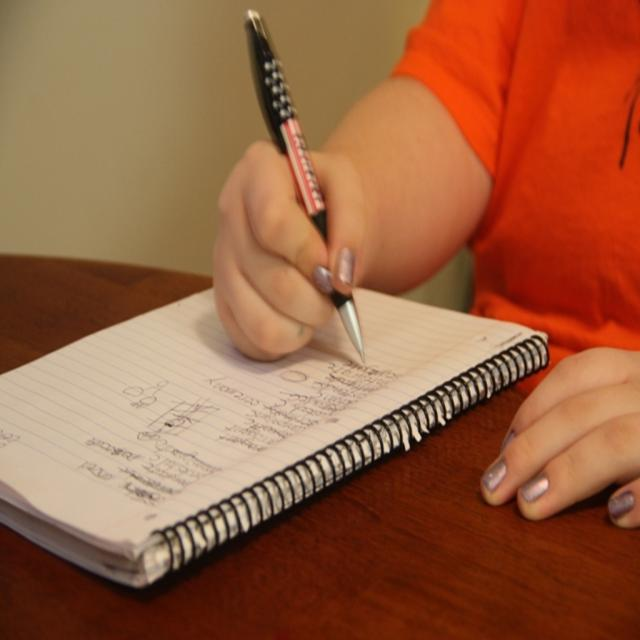pen: (238, 7, 364, 364)
